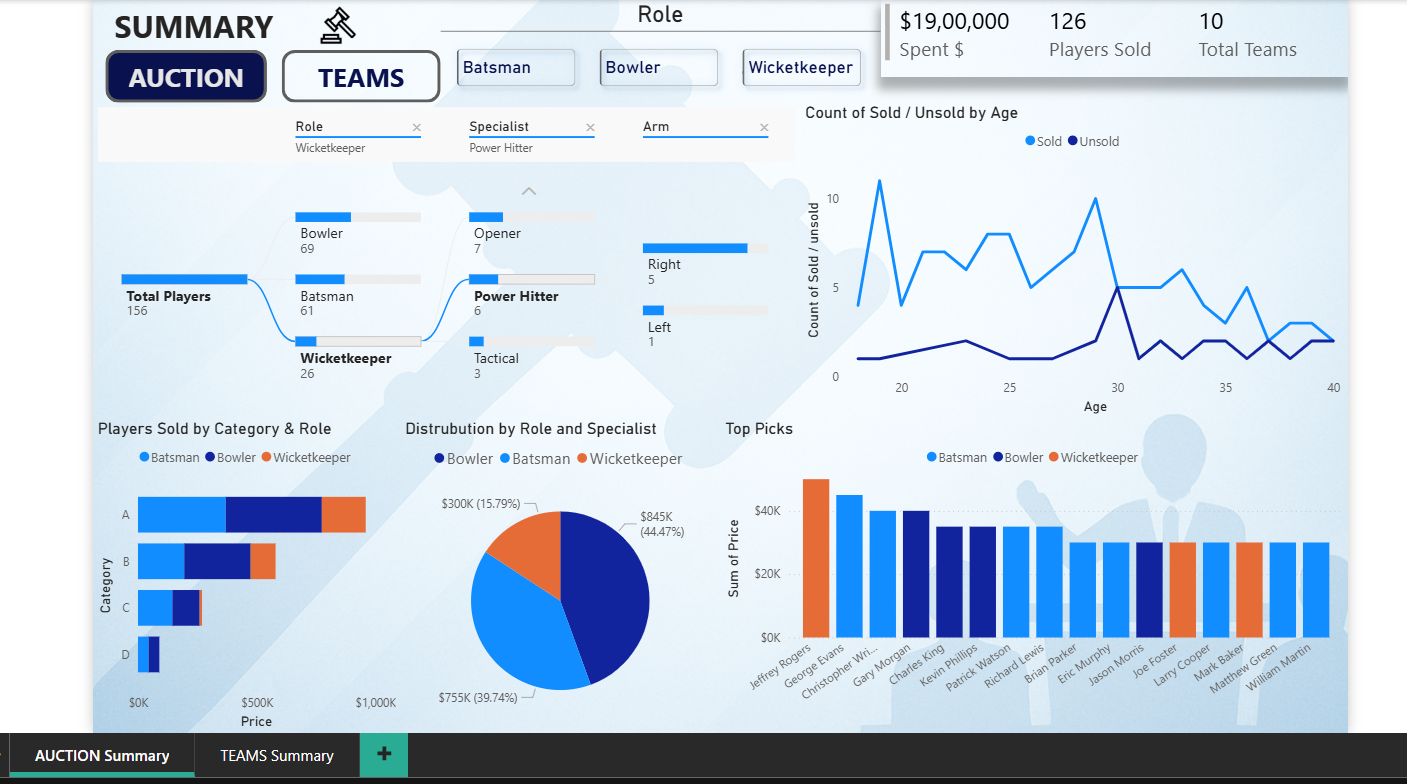

Layout of this report page (visuals, bound fields, positions):
{"tool":"powerbi","page":{"name":"AUCTION Summary","canvas":[1300,760],"ordinal":0},"visuals":[{"type":"multiRowCard","title":"Summary","fields":{"Values":["Auction_Log.Price","Player_List.Sold?","Auction_Log.Team No"]},"box":[815.7,0,484.3,80],"z":0},{"type":"decompositionTreeVisual","fields":{"Analyze":["Auction_Log.Sold / unsold"],"ExplainBy":["Auction_Log.Role","Player_List.Specialist","Player_List.Arm"]},"box":[0,106.2,733.1,327.7],"z":1000},{"type":"barChart","title":"Players Sold by Category & Role","fields":{"Category":["Auction_Log.Category"],"Y":["Auction_Log.Price"],"Series":["Auction_Log.Role"]},"box":[0,433.9,318.6,326.4],"z":2000},{"type":"advancedSlicerVisual","fields":{"Values":["Auction_Log.Role"]},"box":[360,0,455.7,105.7],"z":3000},{"type":"pieChart","title":"Distrubution by Role and Specialist","fields":{"Category":["Auction_Log.Role","Player_List.Specialist"],"Y":["Auction_Log.Price"]},"box":[318.6,433.9,331.6,326.4],"z":4000},{"type":"lineChart","title":"Count of Sold / Unsold by Age","fields":{"Y":["Auction_Log.Sold / unsold"],"Category":["Player_List.Age"],"Series":["Auction_Log.Sold / unsold"]},"box":[733.1,106.2,567.3,327.7],"z":5000},{"type":"columnChart","title":"Top Picks","fields":{"Y":["Auction_Log.Price"],"Category":["Auction_Log.Player Name"],"Series":["Auction_Log.Role"]},"box":[650.2,433.9,650.2,326.4],"z":6000},{"type":"image","box":[227.9,0,51.8,51.8],"z":7000},{"type":"textbox","box":[12.9,0,182.9,52.9],"z":8000},{"type":"actionButton","box":[195.6,51.8,164.5,54.4],"z":9000},{"type":"actionButton","title":"SUMMARY","box":[13,51.8,167.1,54.4],"z":10000}]}

Visuals, with their boxes on the page's 1300x760 design canvas (x1, y1, x2, y2). These are canvas units, not pixel positions in the 1407x784 screenshot, which may show the page scaled, cropped or inside an application window:
"Summary" multiRowCard: x1=816 y1=0 x2=1300 y2=80
decompositionTreeVisual - Auction_Log.Sold / unsold x Auction_Log.Role: x1=0 y1=106 x2=733 y2=434
"Players Sold by Category & Role" barChart: x1=0 y1=434 x2=319 y2=760
advancedSlicerVisual - Auction_Log.Role: x1=360 y1=0 x2=816 y2=106
"Distrubution by Role and Specialist" pieChart: x1=319 y1=434 x2=650 y2=760
"Count of Sold / Unsold by Age" lineChart: x1=733 y1=106 x2=1300 y2=434
"Top Picks" columnChart: x1=650 y1=434 x2=1300 y2=760
image: x1=228 y1=0 x2=280 y2=52
textbox: x1=13 y1=0 x2=196 y2=53
actionButton: x1=196 y1=52 x2=360 y2=106
"SUMMARY" actionButton: x1=13 y1=52 x2=180 y2=106
